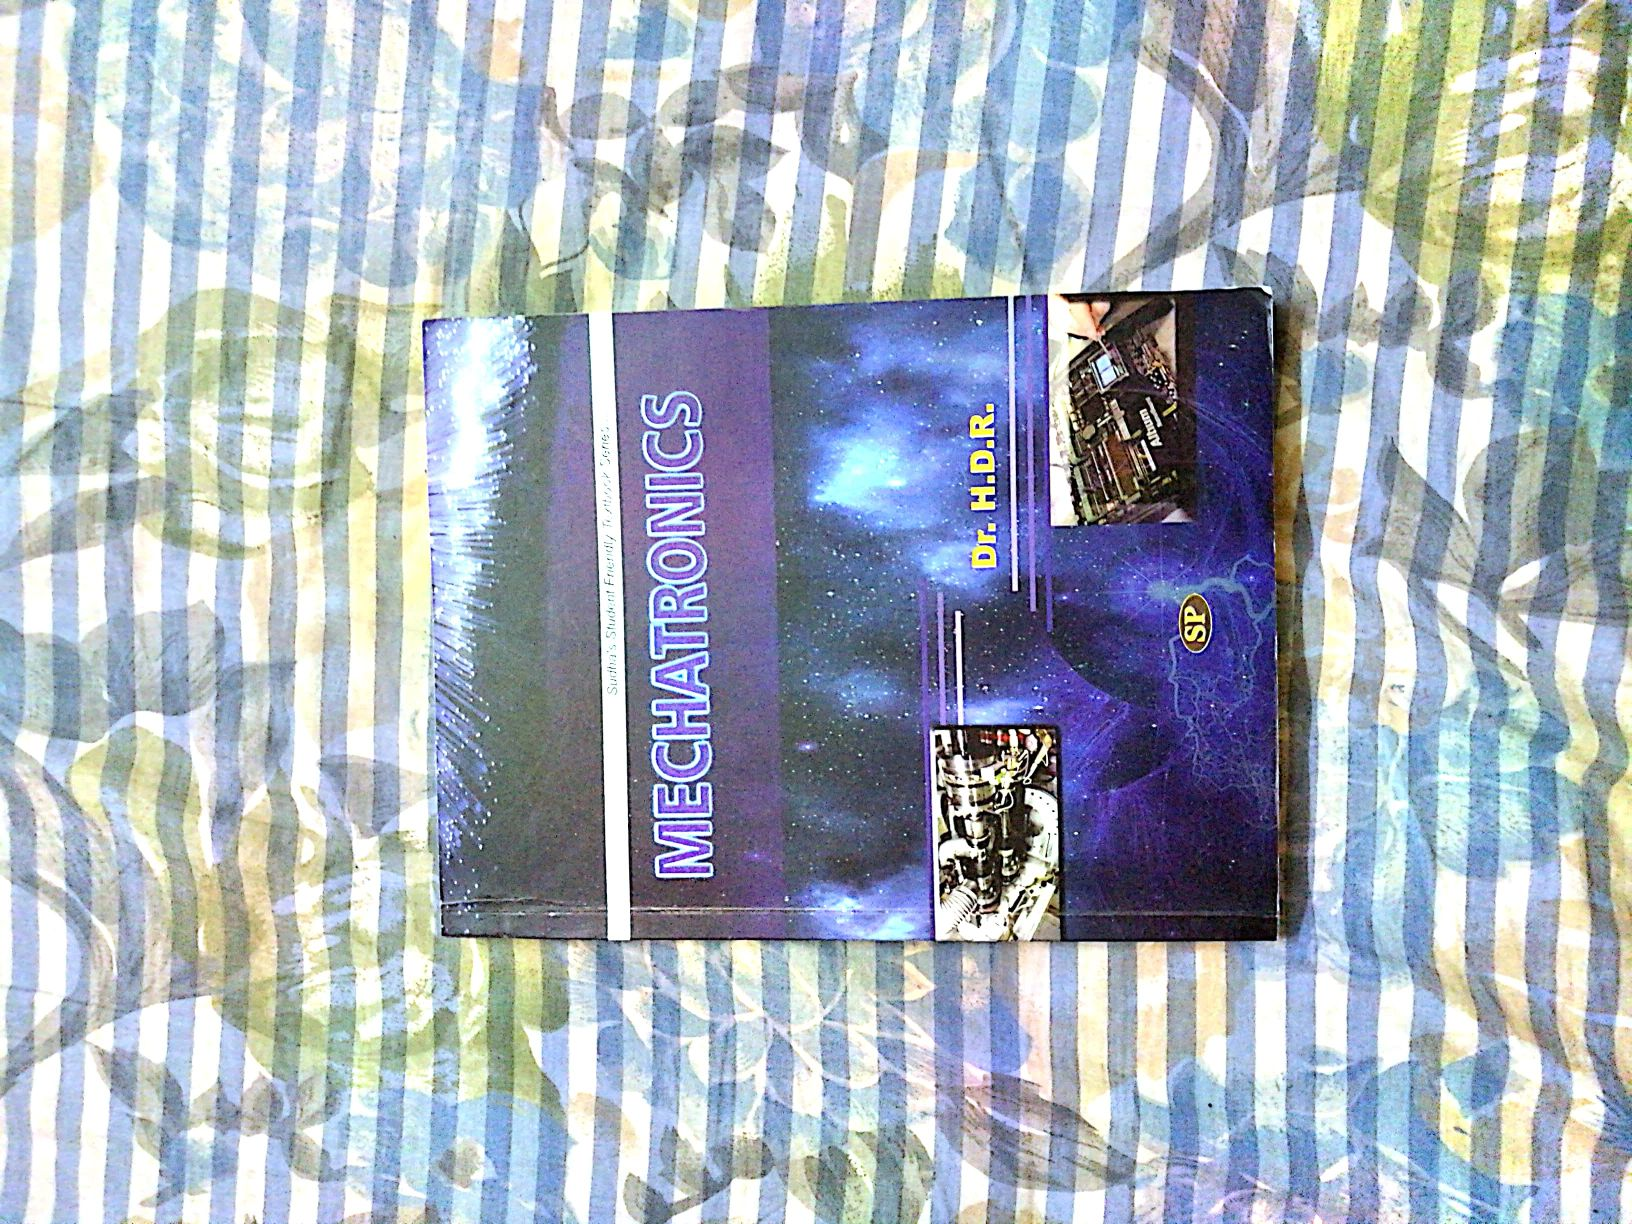mechatronics: (388, 280, 1351, 968)
